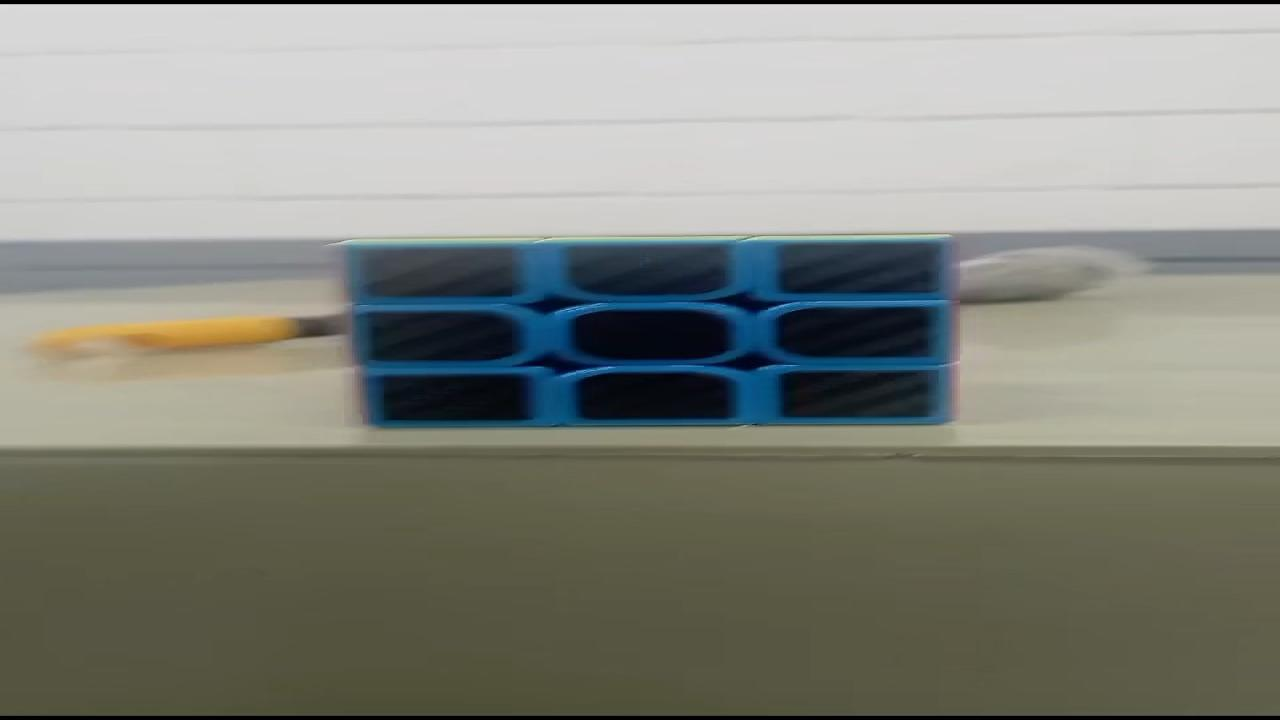Cube: (326, 233, 966, 428)
